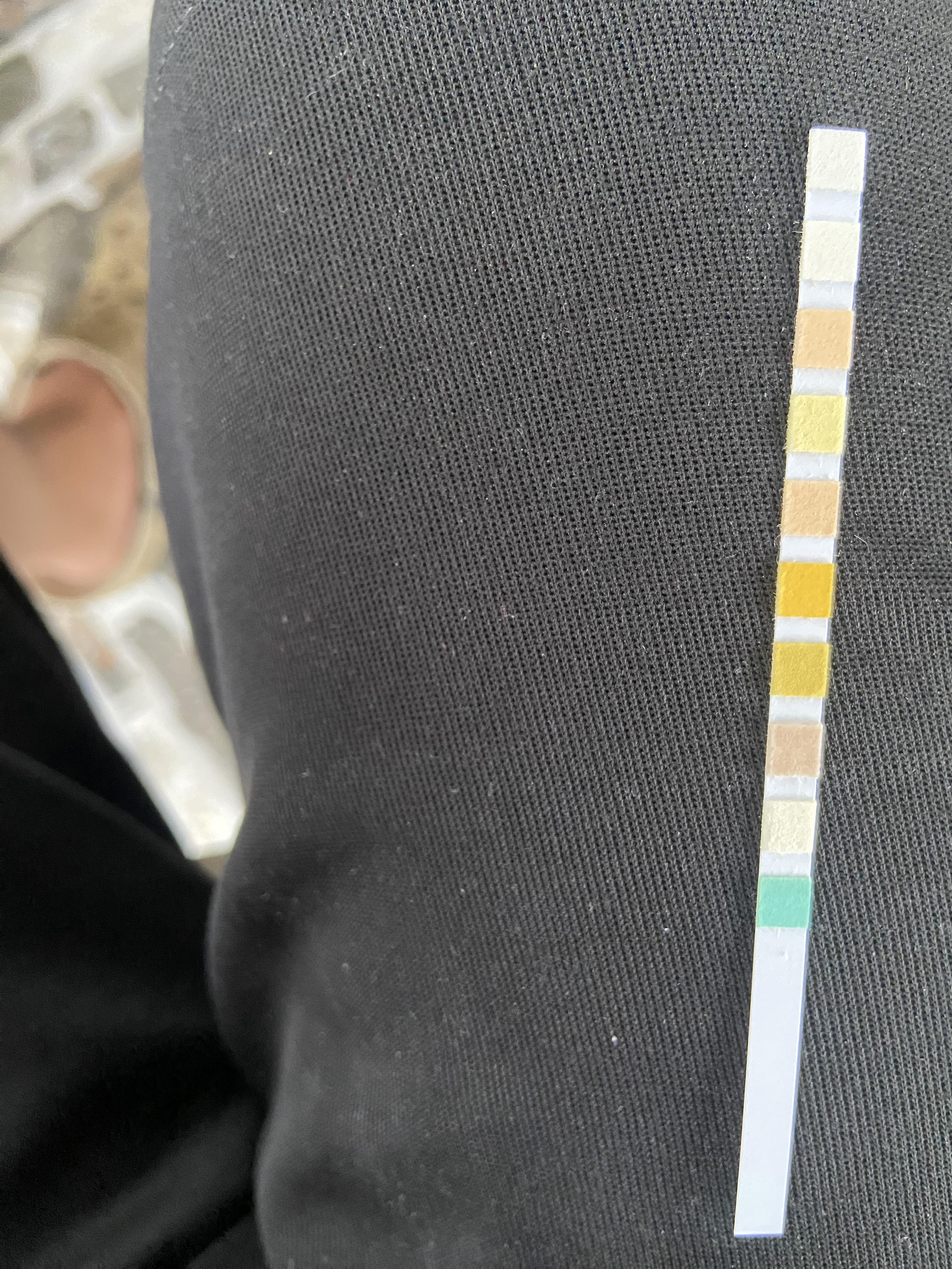Bilirubin: (764, 802, 812, 852)
Blood: (778, 563, 830, 616)
Glucose: (759, 877, 808, 927)
Ketone: (768, 724, 819, 775)
Leukocytes: (809, 131, 862, 189)
Nitrite: (806, 222, 856, 281)
Protein: (791, 397, 842, 452)
SpGravity: (773, 644, 825, 697)
Urobilinogen: (797, 311, 849, 368)
pH: (784, 481, 836, 535)
strip: (737, 129, 867, 1235)
